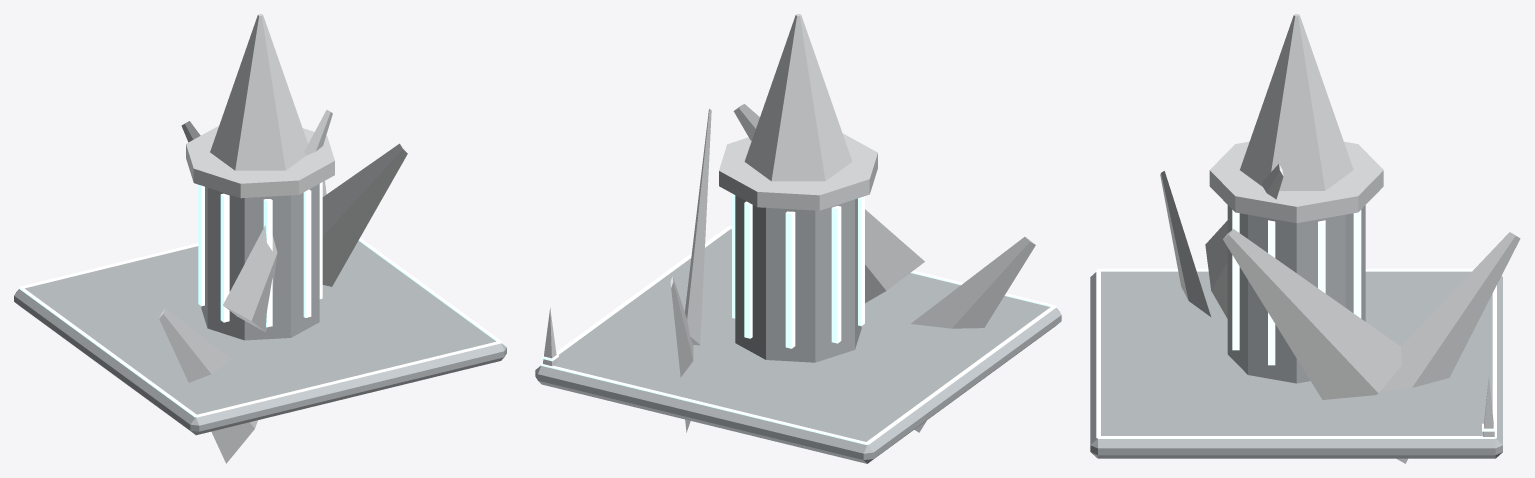
The model's file is zone_high_2_t1.glb.
The picture shows the model from 3 angles, left to right: view 1: azimuth 30°, elevation 25°; view 2: azimuth 150°, elevation 25°; view 3: azimuth 270°, elevation 25°; orthographic projection. The views are drawn at different scales.
Parts seen in each view (by area): view 1: zone_high_2_t1, detail; view 2: zone_high_2_t1, detail; view 3: zone_high_2_t1, detail.
Part boxes in pixels (x1,y1,x2,y2): zone_high_2_t1: (14,14,506,463); detail: (18,181,502,417); zone_high_2_t1: (535,14,1061,463); detail: (540,226,1056,444); zone_high_2_t1: (1090,14,1520,463); detail: (1096,268,1496,438).
Size of the model in its own units: 27.81 by 33.38 by 28.66.
